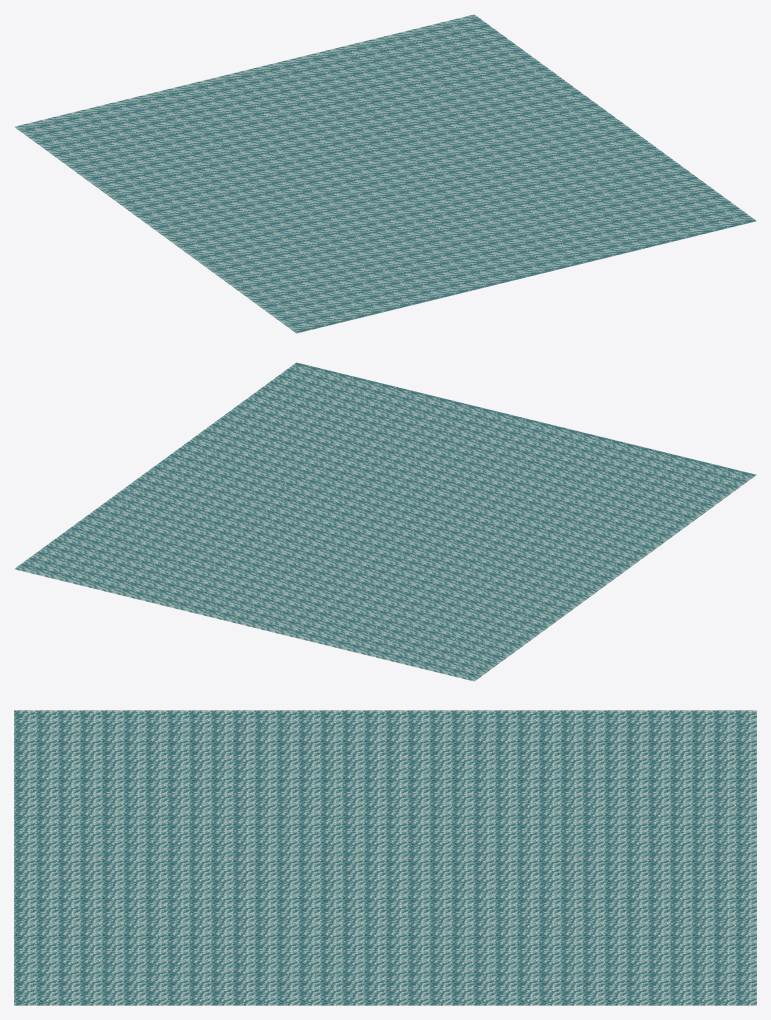
The model's file is ocean.gltf.
3 renders of one model, top to bottom at view 1: azimuth 30°, elevation 25°; view 2: azimuth 150°, elevation 25°; view 3: azimuth 270°, elevation 25°, orthographic. The views are drawn at different scales.
Visible parts, largest first — view 1: Plane.002; view 2: Plane.002; view 3: Plane.002.
Boxes of the visible parts, x1,y1,x2,y2 form: Plane.002: (14, 14, 756, 333); Plane.002: (14, 362, 756, 681); Plane.002: (14, 710, 756, 1005).
Bounding box in the file's own units: 64 × 0 × 68.
1 material, 1 textured.
